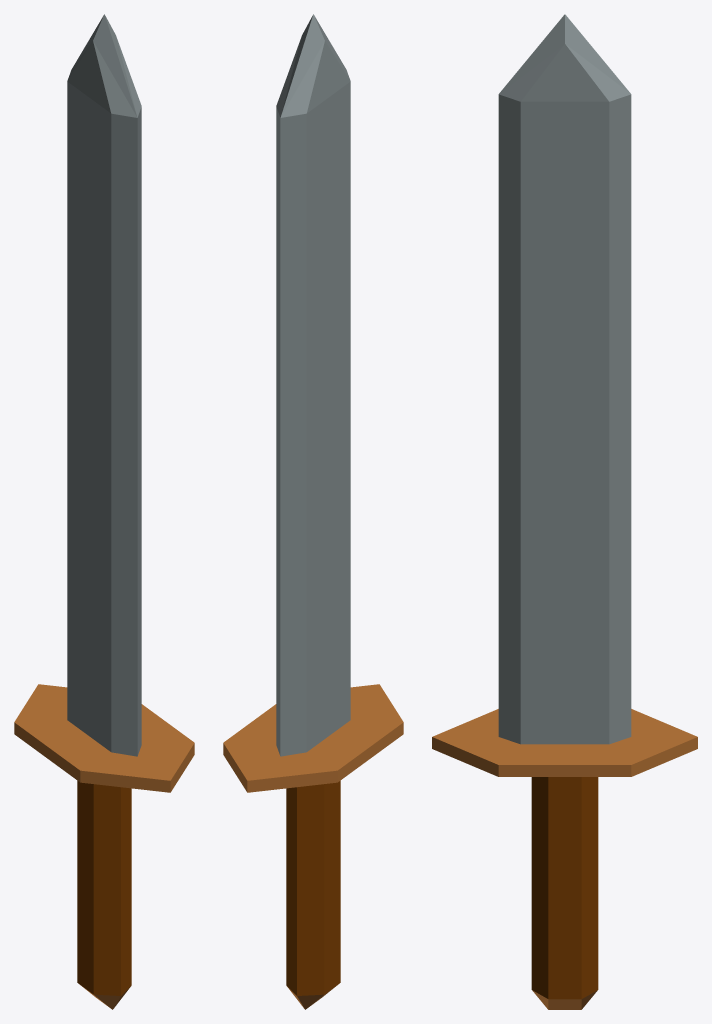
Rendered from espada1_escala.dae.
3 renders of one model, left to right at view 1: azimuth 30°, elevation 25°; view 2: azimuth 150°, elevation 25°; view 3: azimuth 270°, elevation 25°, orthographic.
Parts seen in each view (by area): view 1: Cubo; view 2: Cubo; view 3: Cubo.
Boxes of the visible parts, left/top/right/bottom form: Cubo: left=14, top=14, right=194, bottom=1009; Cubo: left=223, top=14, right=403, bottom=1009; Cubo: left=432, top=14, right=697, bottom=1009.
Bounding box in the file's own units: 0.18 × 0.36 × 1.49.
